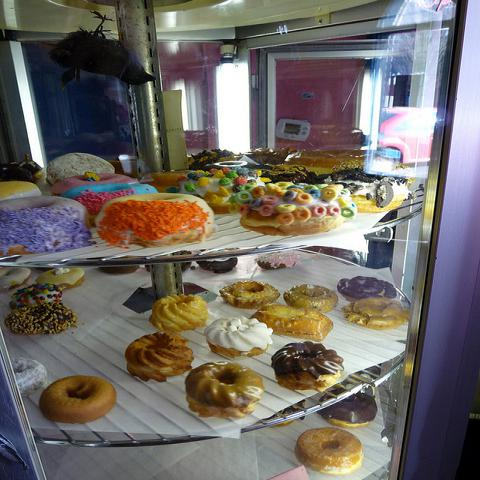car: (376, 107, 437, 170)
